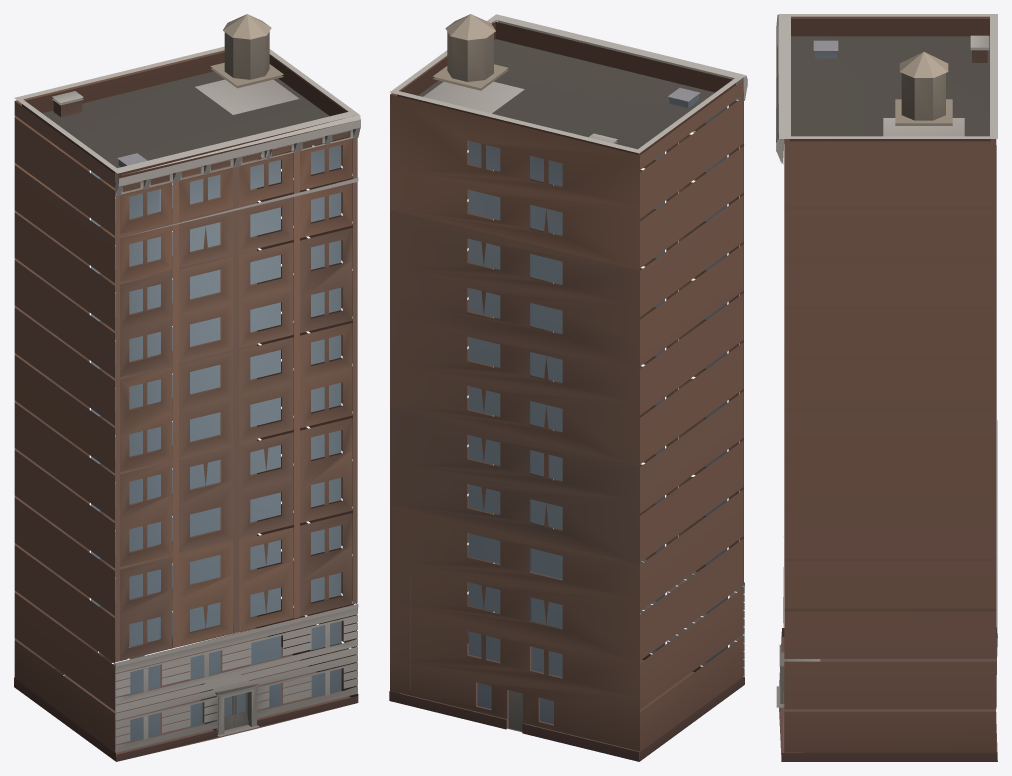
Rendered from prewar.lod.glb.
The picture shows the model from 3 angles, left to right: view 1: azimuth 30°, elevation 25°; view 2: azimuth 150°, elevation 25°; view 3: azimuth 270°, elevation 25°; orthographic projection. The views are drawn at different scales.
Parts seen in each view (by area): view 1: prewar; view 2: prewar; view 3: prewar.
Part boxes in pixels (x1,y1,x2,y2): prewar: (14,14,360,761); prewar: (389,14,747,761); prewar: (776,14,997,761).
Bounding box in the file's own units: 16 × 41.06 × 12.
